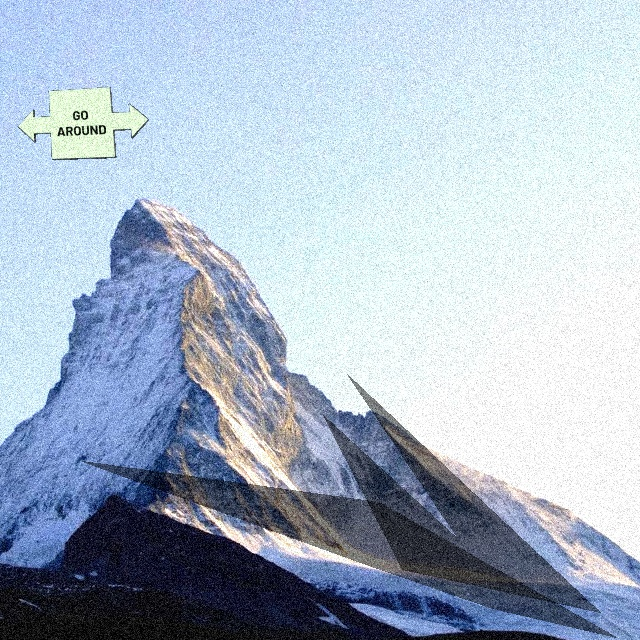GO_AROUND: (17, 86, 149, 160)
